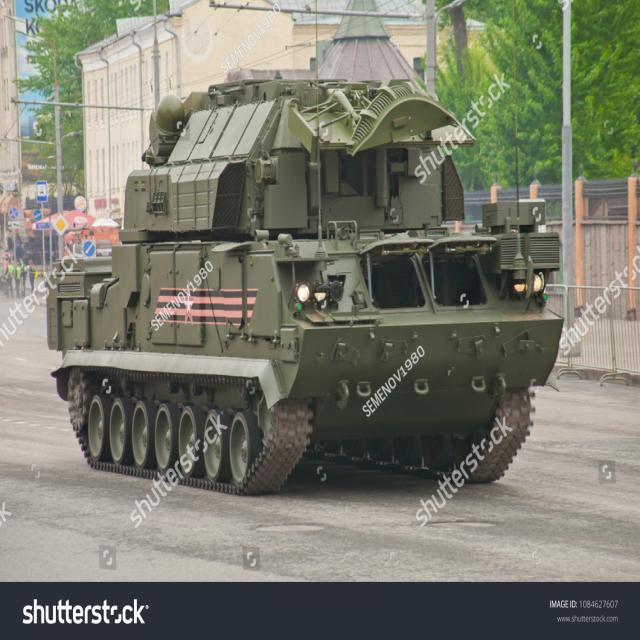MIL_EW_RDR: (49, 79, 558, 504)
